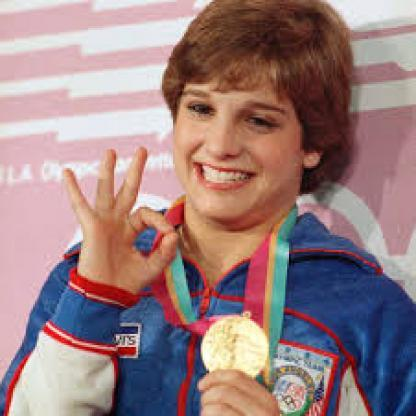ok: (58, 138, 186, 298)
